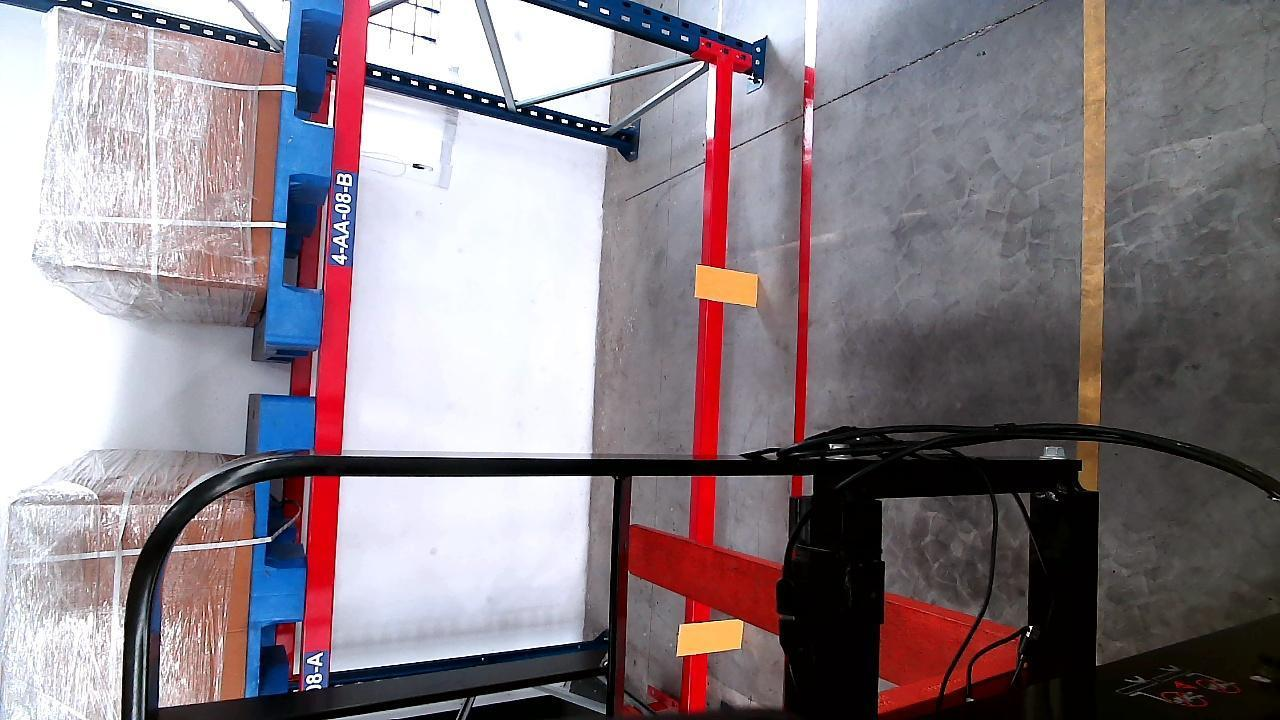h_rack: (693, 64, 733, 719)
orange_strip: (677, 617, 742, 656), (695, 266, 758, 304)
red_line: (794, 6, 818, 443)
small_pallet: (265, 0, 340, 350), (247, 395, 313, 688)
yellow_line: (1079, 0, 1107, 432)
